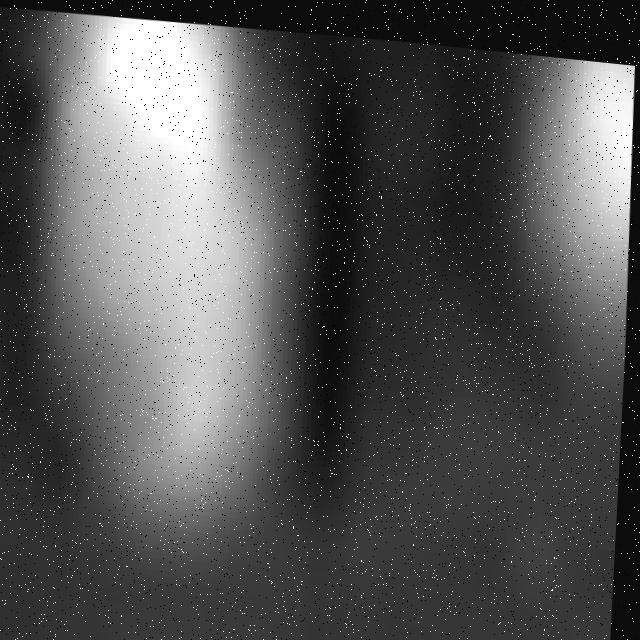person: (16, 4, 325, 579), (512, 44, 640, 410)
